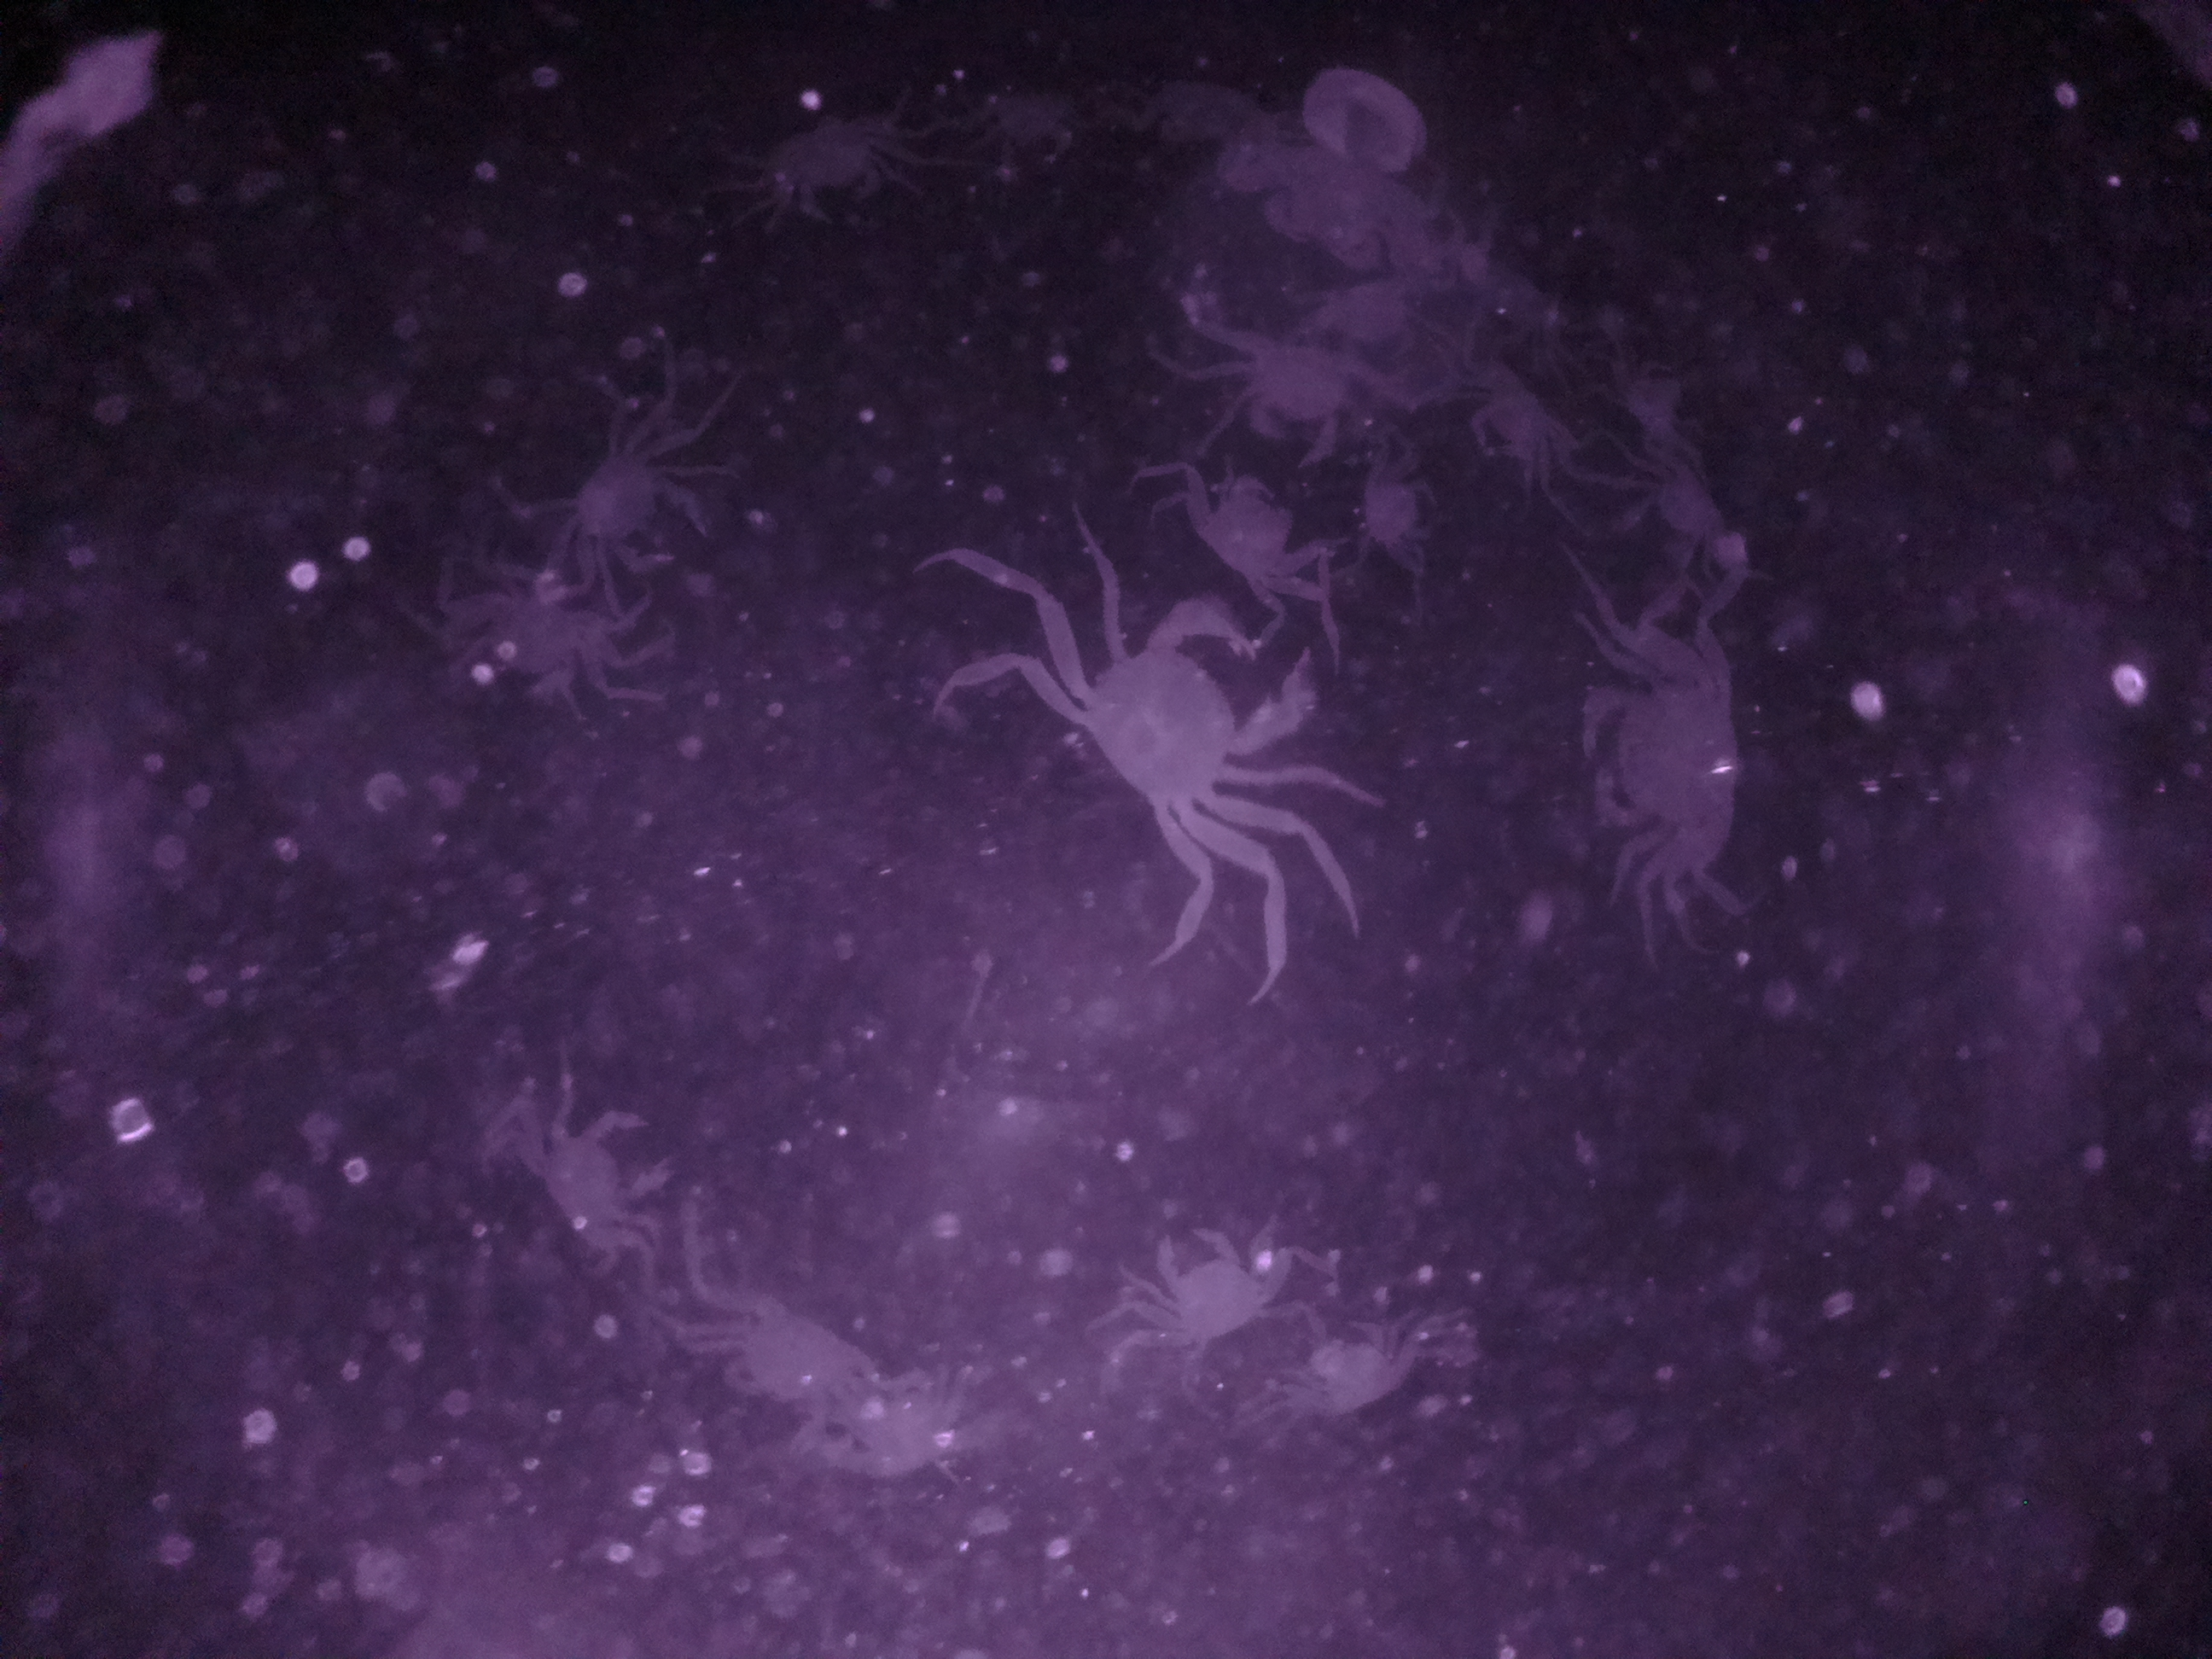Crab: (1040, 598, 1325, 871), (1566, 633, 1789, 887), (1198, 312, 1402, 469), (542, 436, 733, 587), (1271, 1291, 1447, 1432), (1136, 1209, 1285, 1368), (1170, 458, 1317, 615), (752, 103, 923, 232), (1453, 349, 1575, 490)
